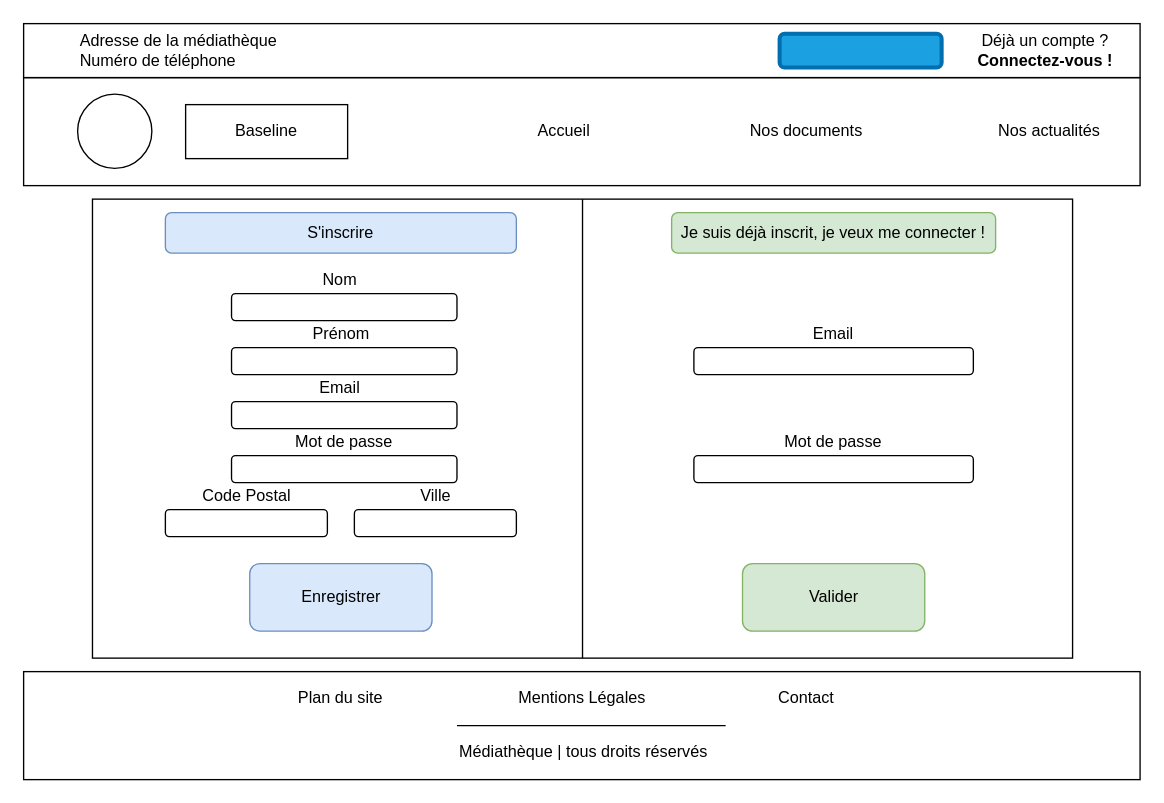
Some shapes in this 1164 by 803 pixel diagram are drawn without their labels. The centre of each missing label's shape, as x and y in pixels:
"Logo" belongs at point 114,130.
"S'incrire" belongs at point 860,50.
